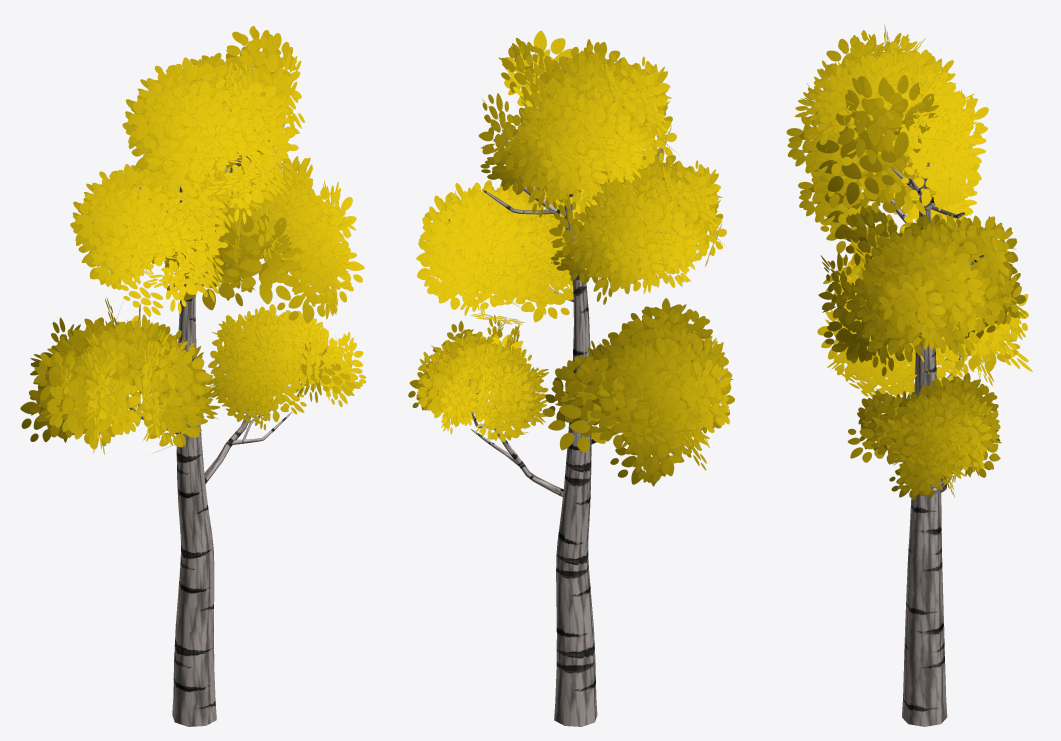
The model's file is birch_tree1.glb.
The picture shows the model from 3 angles, left to right: view 1: azimuth 30°, elevation 25°; view 2: azimuth 150°, elevation 25°; view 3: azimuth 270°, elevation 25°; orthographic projection. The views are drawn at different scales.
Visible parts, largest first — view 1: BirchTree_1; view 2: BirchTree_1; view 3: BirchTree_1.
Part boxes in pixels (<box>): BirchTree_1: <box>20,26,365,726</box>; BirchTree_1: <box>408,30,734,726</box>; BirchTree_1: <box>786,24,1032,726</box>.
Size of the model in its own units: 2.71 by 5.45 by 1.94.
2 materials, 2 textured.
